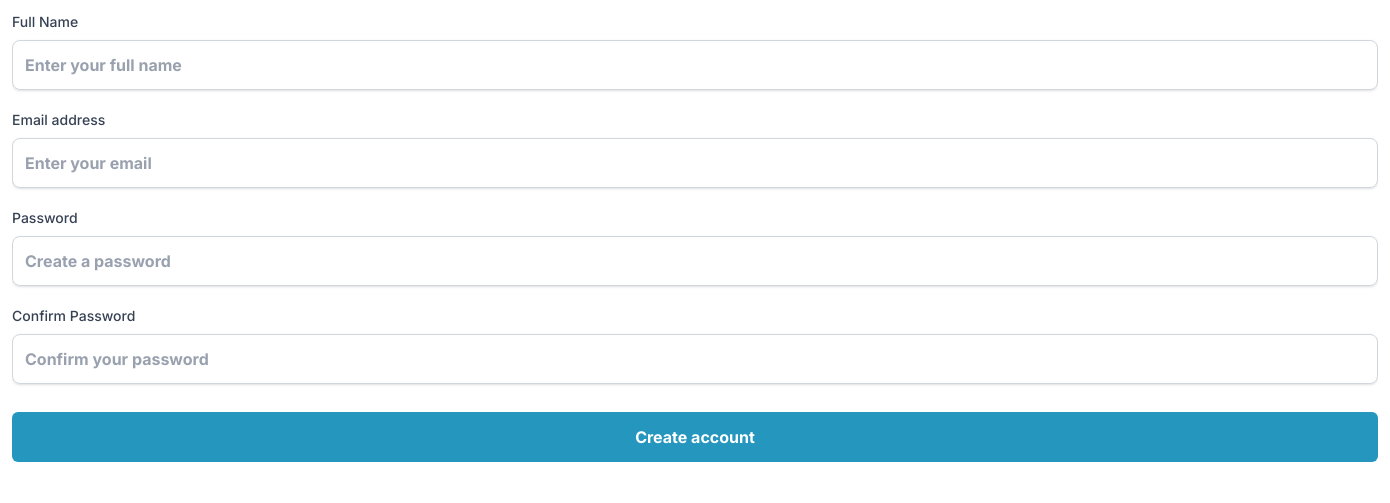
Scenario: SignupForm › shows password strength indicator
The width and height of the screenshot is (1390, 503).
// Weak password
Step 1. Type "password" into the password field labelled "Password" → x=695, y=261, box [12,236,1378,286]
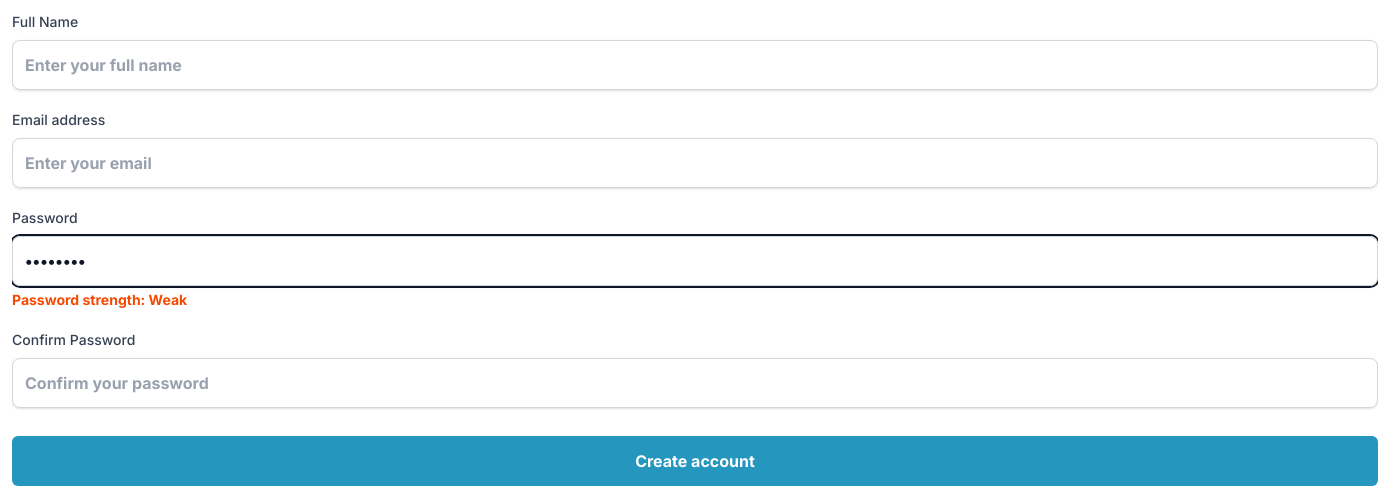
Now the text "Password strength: Weak" is shown, box [12,291,187,308]
// Clear and type strong password
Step 2. Type "StrongPassword123!" into the password field labelled "Password" → x=695, y=261, box [12,236,1378,286]
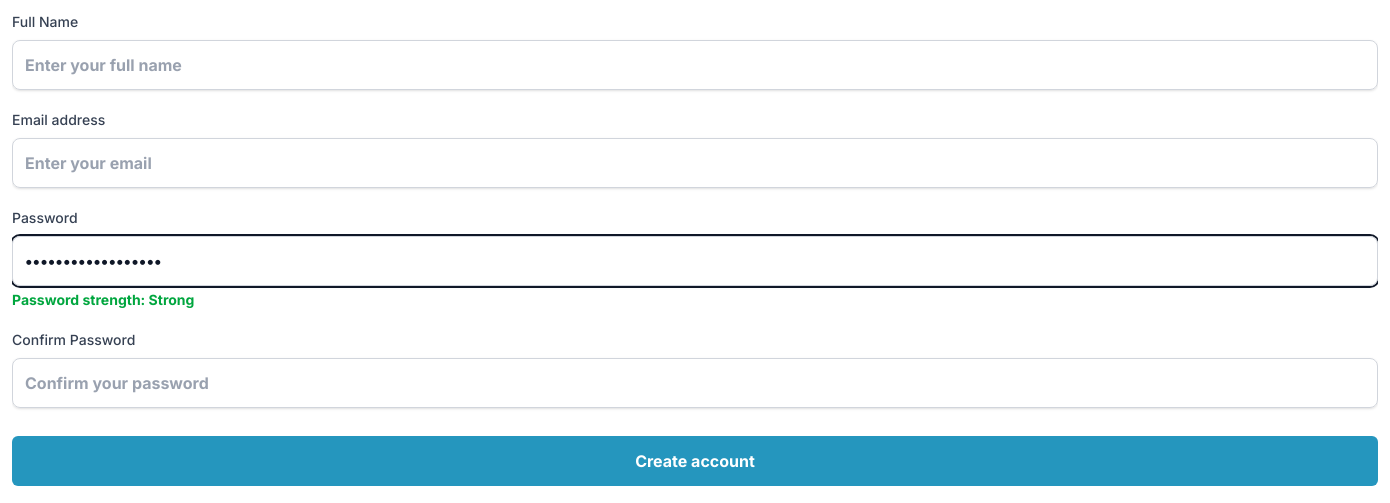
Now the text "Password strength: Strong" is shown, box [12,291,194,308]
